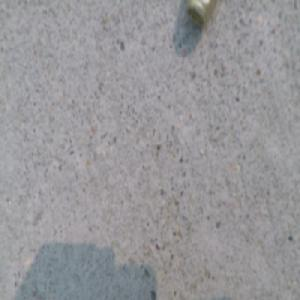BoltNutSet: (186, 1, 214, 23)
